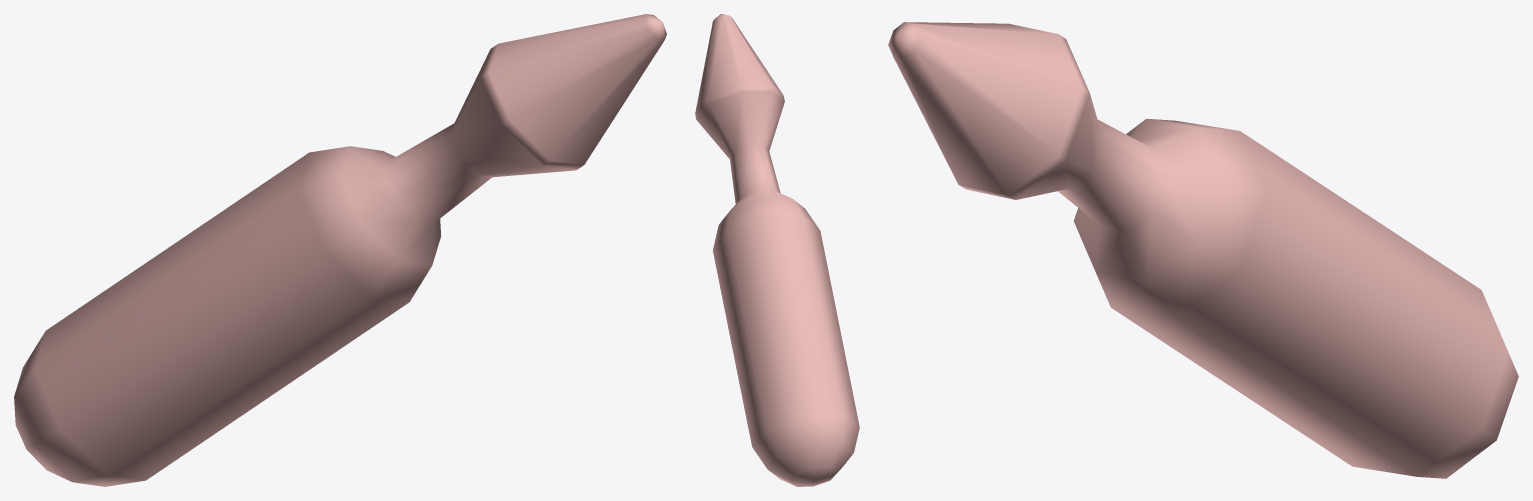
File: mesh_item_sanityrest_big1.fbx
3 renders of one model, left to right at view 1: azimuth 30°, elevation 25°; view 2: azimuth 150°, elevation 25°; view 3: azimuth 270°, elevation 25°, orthographic. The views are drawn at different scales.
Visible parts, largest first — view 1: item_sanityrest_big1; view 2: item_sanityrest_big1; view 3: item_sanityrest_big1.
Part boxes in pixels (x1,y1,x2,y2): item_sanityrest_big1: (14,14,666,486); item_sanityrest_big1: (695,14,859,486); item_sanityrest_big1: (888,22,1518,478).
Bounding box in the file's own units: 8.59 × 10.18 × 8.97.
